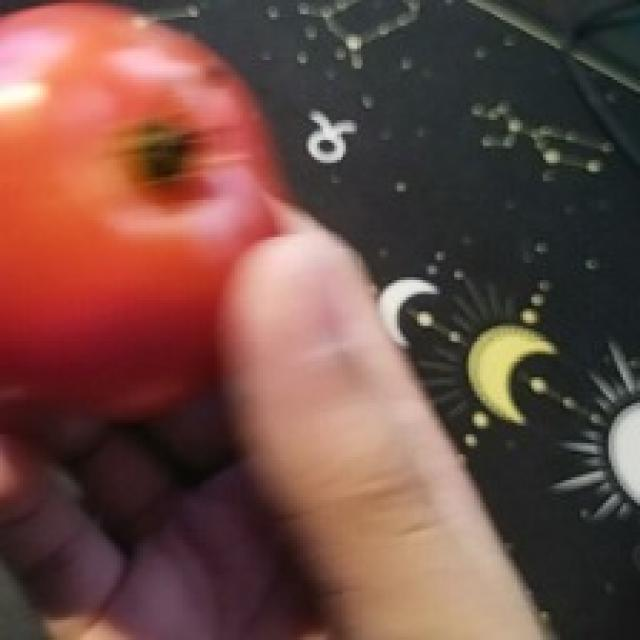Fresh Tomato: (0, 1, 305, 416)
